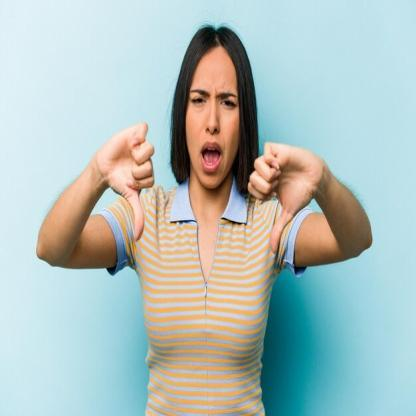thumb_down: (244, 138, 317, 258), (97, 116, 159, 246)
